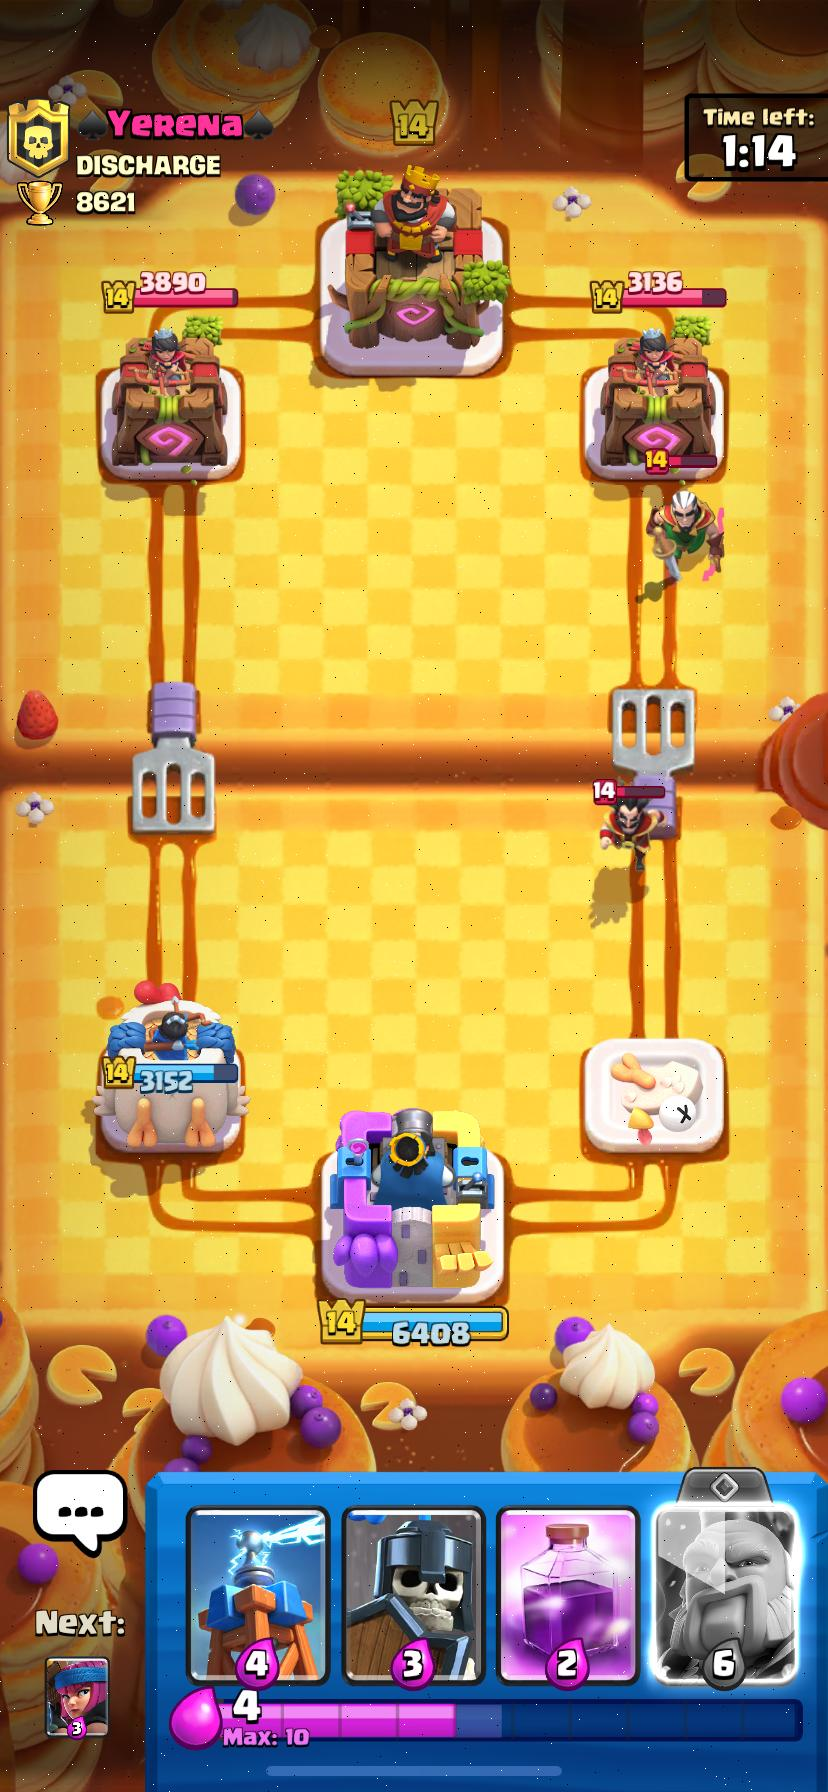EEletrcoWizard: (600, 795, 668, 871)
EKingTower: (344, 166, 508, 351)
EMagicArcher: (647, 488, 723, 581)
EnemyPrincessTower: (112, 327, 226, 474), (600, 329, 716, 474)
OwnKingTower: (323, 1109, 502, 1302)
OwnPrincessTower: (93, 983, 248, 1153)
TowerDown: (583, 1037, 725, 1155)
